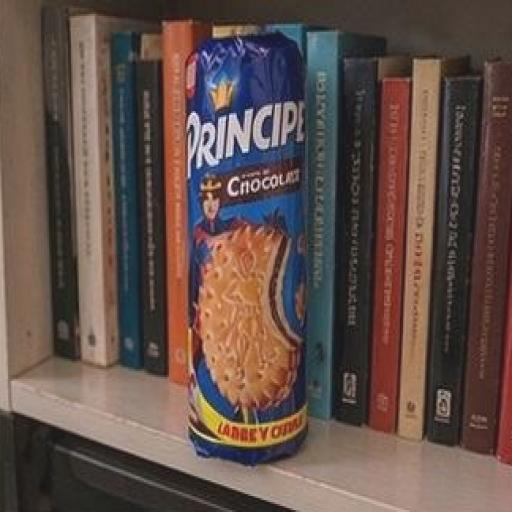prince: (120, 14, 384, 496)
